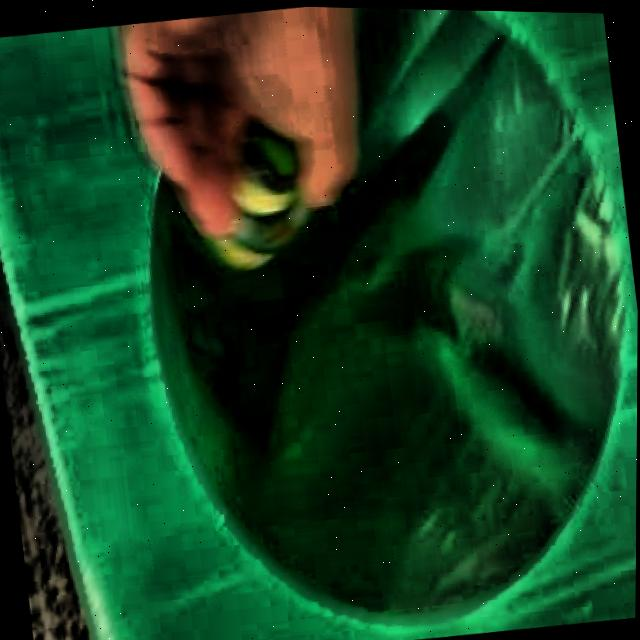glass: (210, 118, 309, 269)
